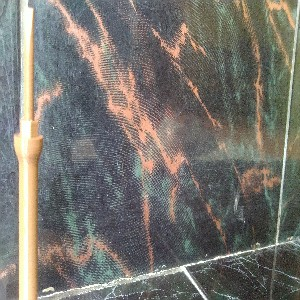obeng: (12, 7, 44, 300)
